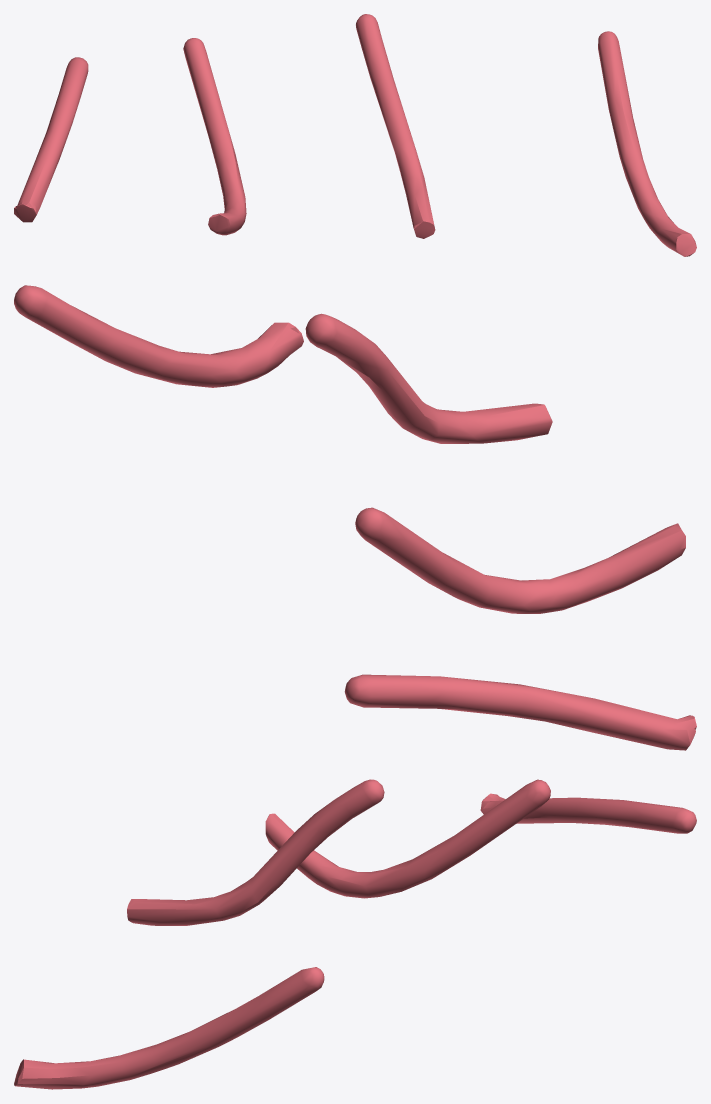
File: fma70821_fj2196.glb
The picture shows the model from 3 angles, top to bottom: view 1: azimuth 30°, elevation 25°; view 2: azimuth 150°, elevation 25°; view 3: azimuth 270°, elevation 25°; orthographic projection. The views are drawn at different scales.
Parts seen in each view (by area): view 1: FMA70821_FJ2196; view 2: FMA70821_FJ2196; view 3: FMA70821_FJ2196.
Boxes of the visible parts, left/top/right/bottom form: FMA70821_FJ2196: left=14, top=14, right=696, bottom=256; FMA70821_FJ2196: left=14, top=285, right=696, bottom=750; FMA70821_FJ2196: left=14, top=779, right=696, bottom=1089.
Bounding box in the file's own units: 0.0399 × 0.0128 × 0.038.
